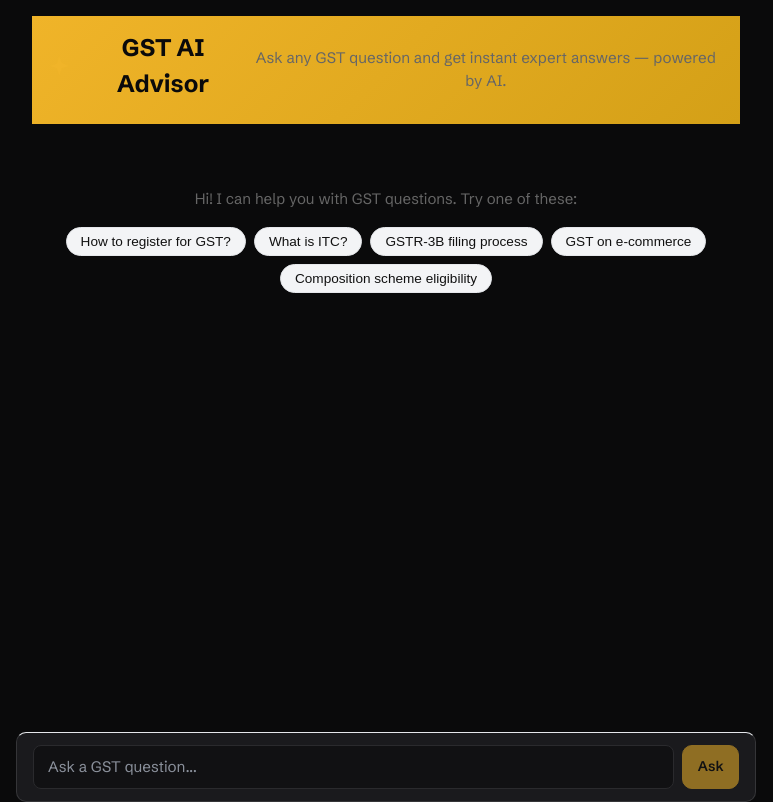
Test: AdvisorPage › shows the reply the API sends when the advisor is unavailable
This screenshot has width=773, height=802.
Type "test" into the field with placeholder "Ask a GST question..." at (354, 767), box [33,745,674,789]
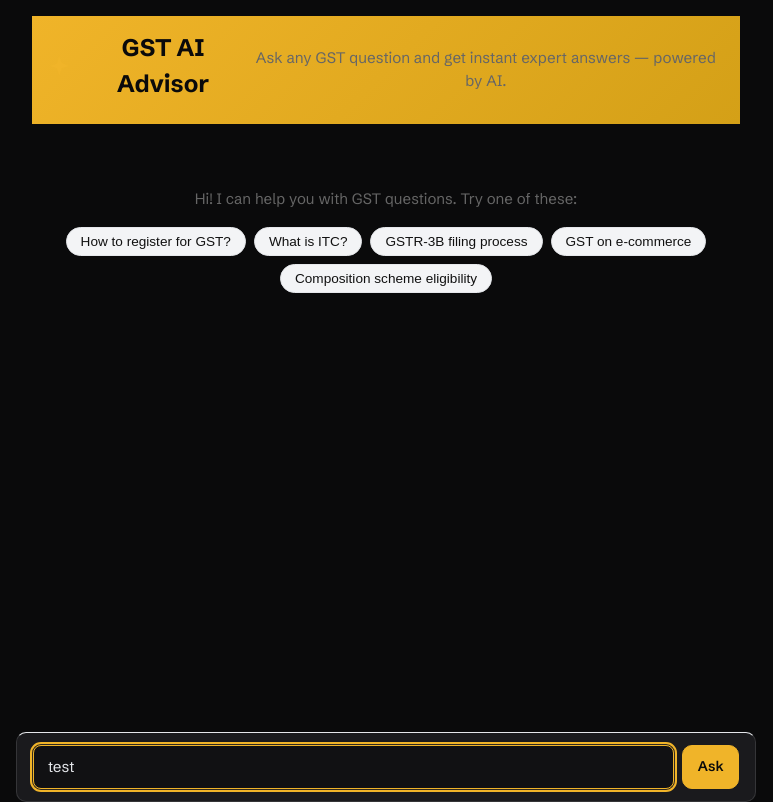
Click the button "Ask" at (711, 767), box [682,745,739,789]
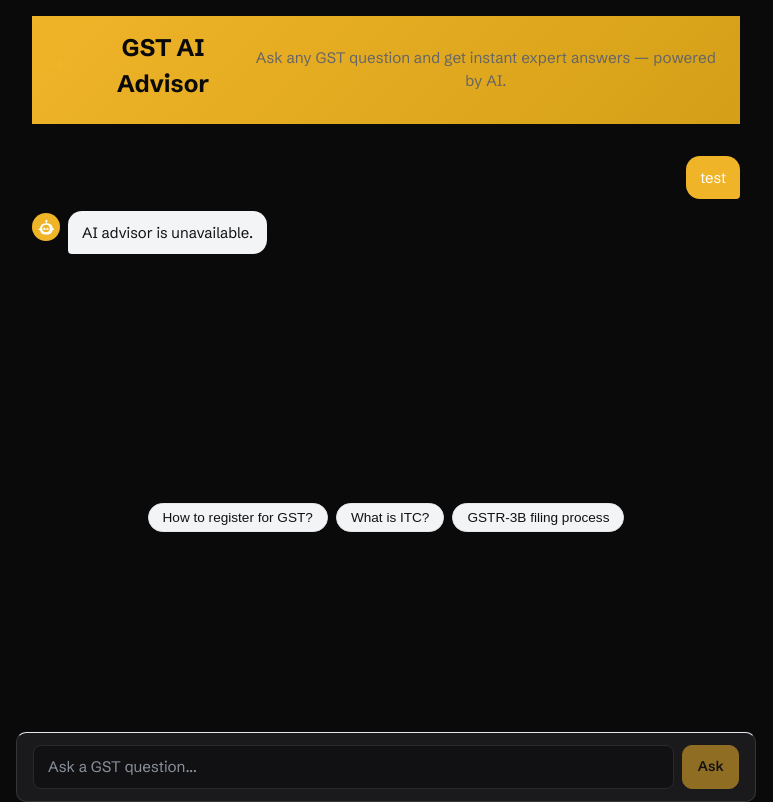
expect the text "AI advisor is unavailable." is shown: met, box [68,211,267,254]
